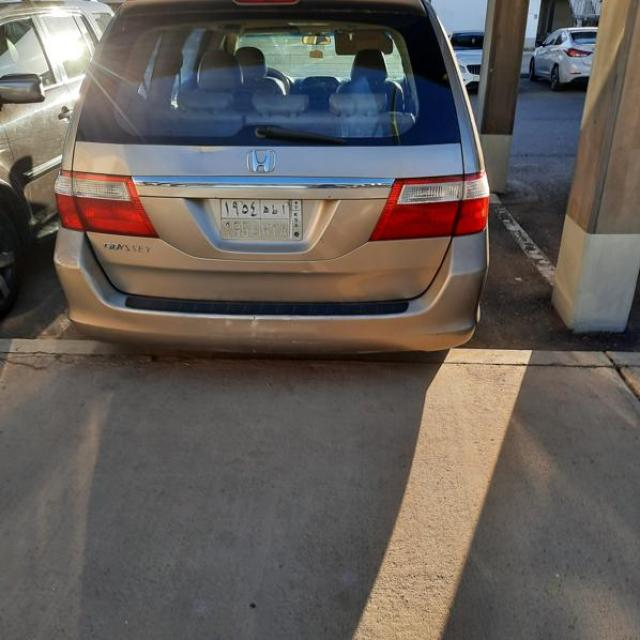license_plate: (220, 199, 302, 240)
